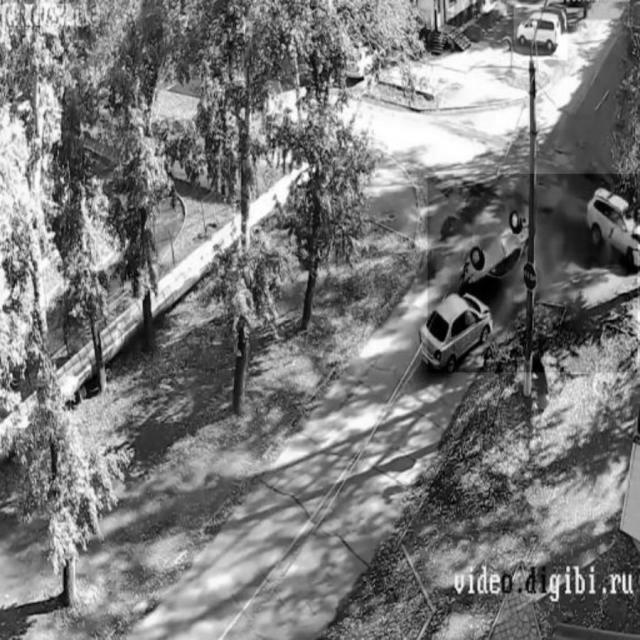accident: (428, 174, 638, 372)
vehicle: (514, 5, 568, 61)
